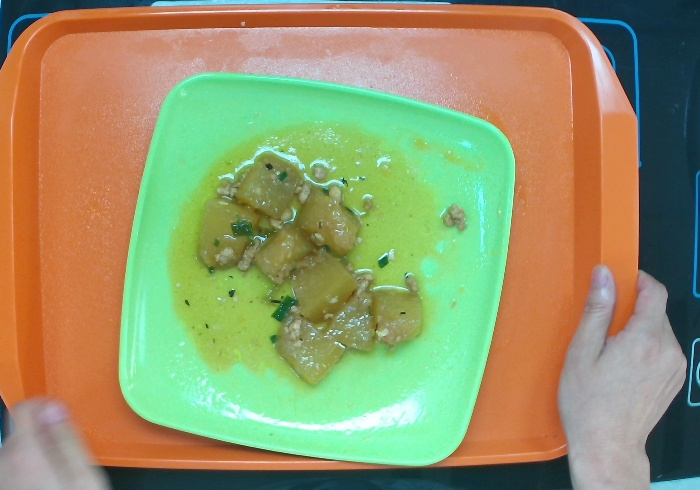ZNLD-Lv_Fang_Pan: (116, 70, 517, 467)
